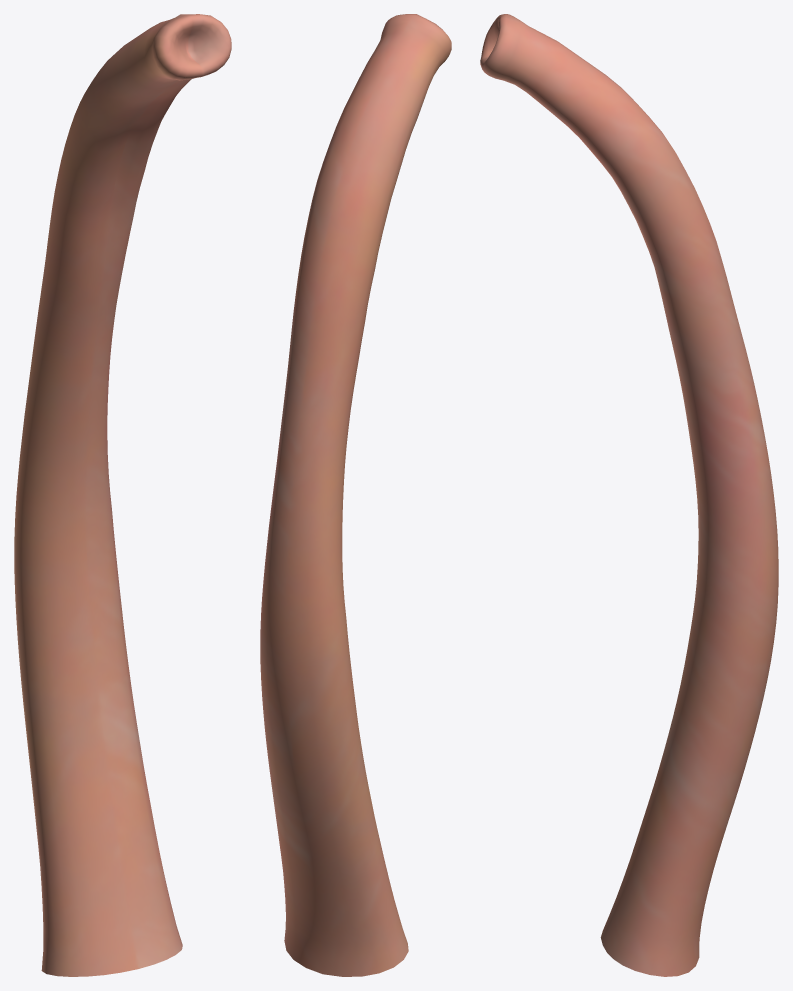
File: Esophagus.fbx
3 renders of one model, left to right at view 1: azimuth 30°, elevation 25°; view 2: azimuth 150°, elevation 25°; view 3: azimuth 270°, elevation 25°, orthographic. The views are drawn at different scales.
Parts seen in each view (by area): view 1: Esophagus_LOD0; view 2: Esophagus_LOD0; view 3: Esophagus_LOD0.
Boxes of the visible parts, x1,y1,x2,y2 form: Esophagus_LOD0: (14, 14, 231, 976); Esophagus_LOD0: (260, 14, 451, 976); Esophagus_LOD0: (480, 14, 778, 976).
Size of what is drawn, in the model's own units: 0.0729 by 0.539 by 0.1552.
Materials: 1 (1 with a texture image).
